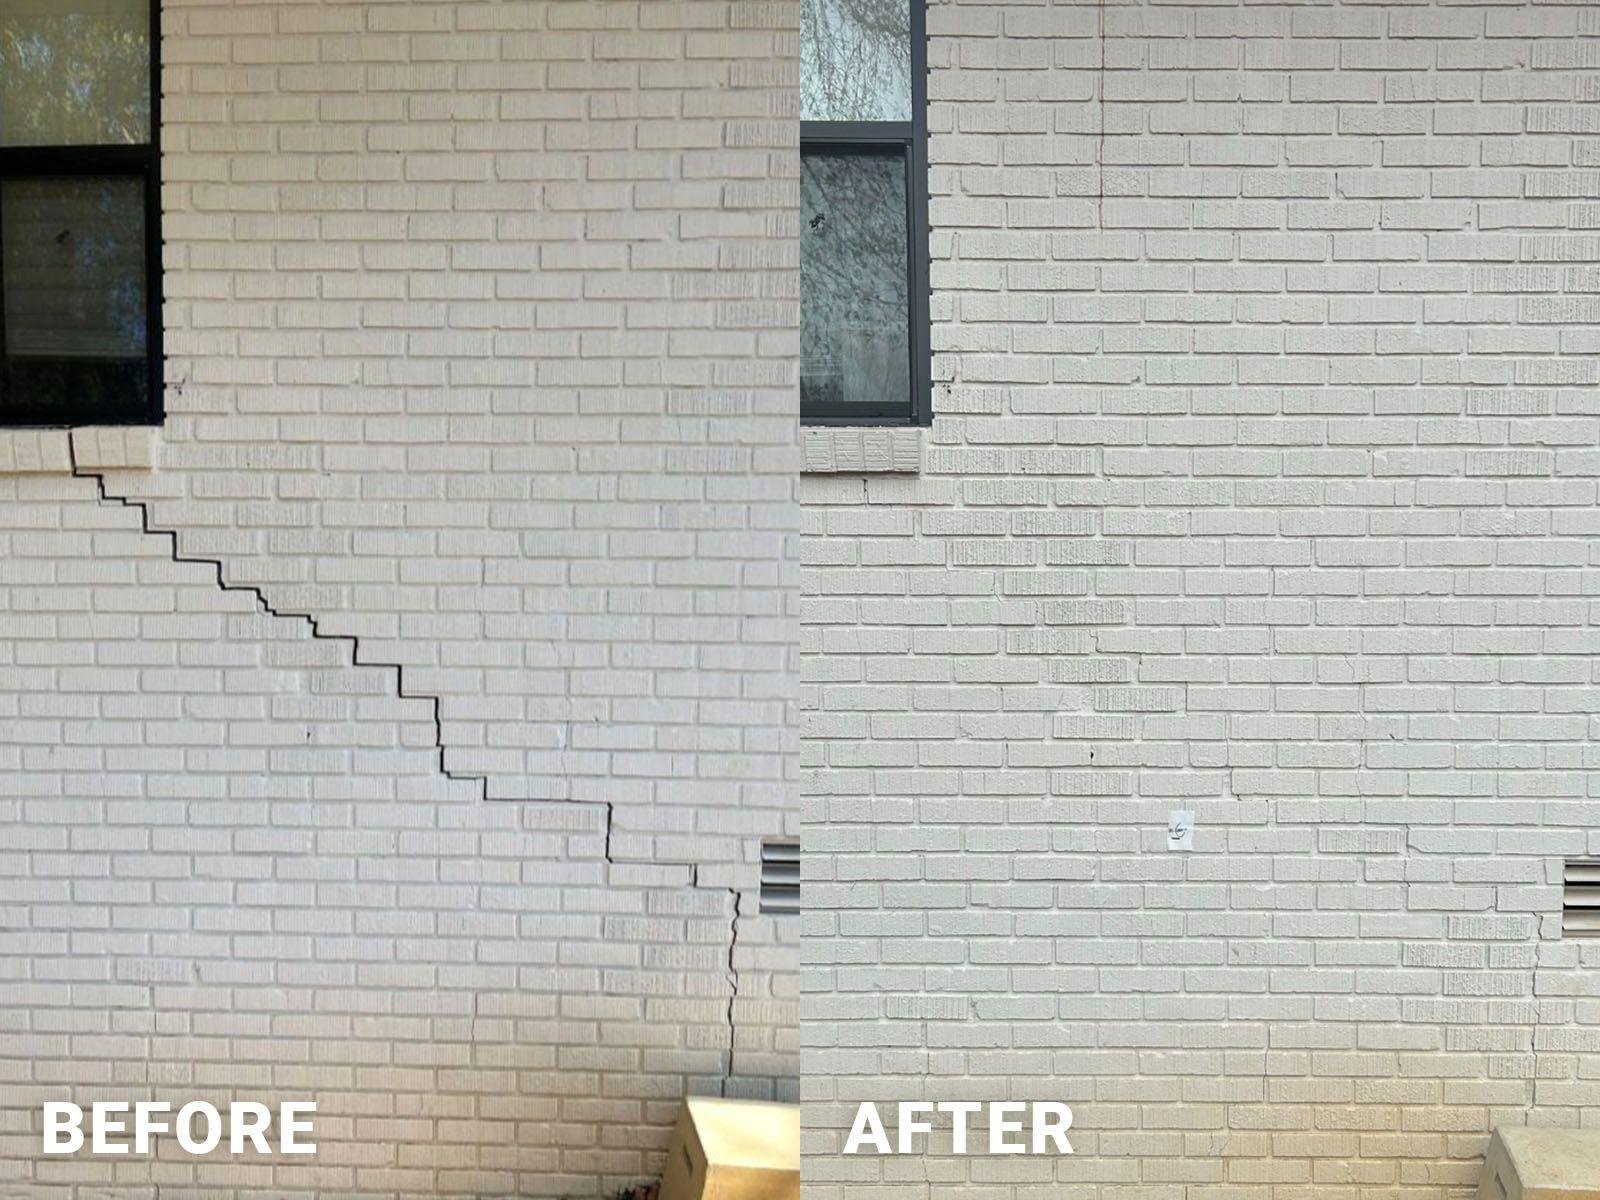Crack: (40, 424, 760, 1113)
